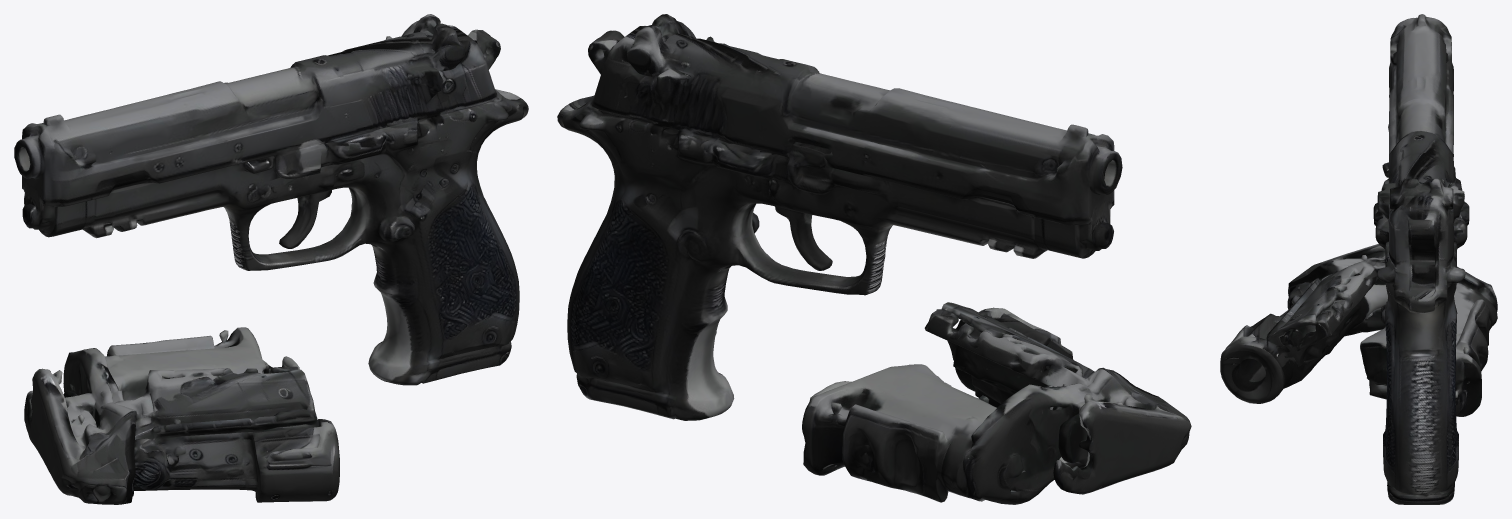
The model's file is weapon-pistol.glb.
The picture shows the model from 3 angles, left to right: view 1: azimuth 30°, elevation 25°; view 2: azimuth 150°, elevation 25°; view 3: azimuth 270°, elevation 25°; orthographic projection. The views are drawn at different scales.
Visible parts, largest first — view 1: tripo_node_4bb77a90-a82e-46f7-9acd-42c1e412e8f2; view 2: tripo_node_4bb77a90-a82e-46f7-9acd-42c1e412e8f2; view 3: tripo_node_4bb77a90-a82e-46f7-9acd-42c1e412e8f2.
Part boxes in pixels (x1,y1,x2,y2): tripo_node_4bb77a90-a82e-46f7-9acd-42c1e412e8f2: [14, 14, 528, 504]; tripo_node_4bb77a90-a82e-46f7-9acd-42c1e412e8f2: [557, 14, 1191, 504]; tripo_node_4bb77a90-a82e-46f7-9acd-42c1e412e8f2: [1220, 14, 1497, 504].
Size of the model in its own units: 0.9999 by 0.6612 by 0.5315.
1 material, 1 textured.
